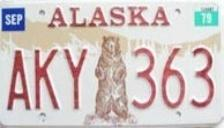3: (131, 46, 158, 111), (189, 45, 216, 109)
6: (161, 45, 187, 109)
A: (4, 48, 33, 112)
K: (33, 47, 63, 111)
Y: (62, 46, 90, 111)
